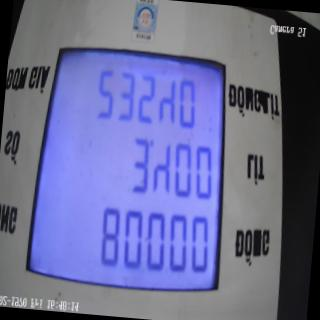screen: (20, 36, 243, 316)
